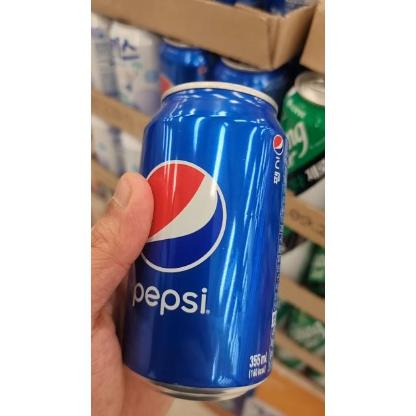Can: (122, 82, 288, 401)
